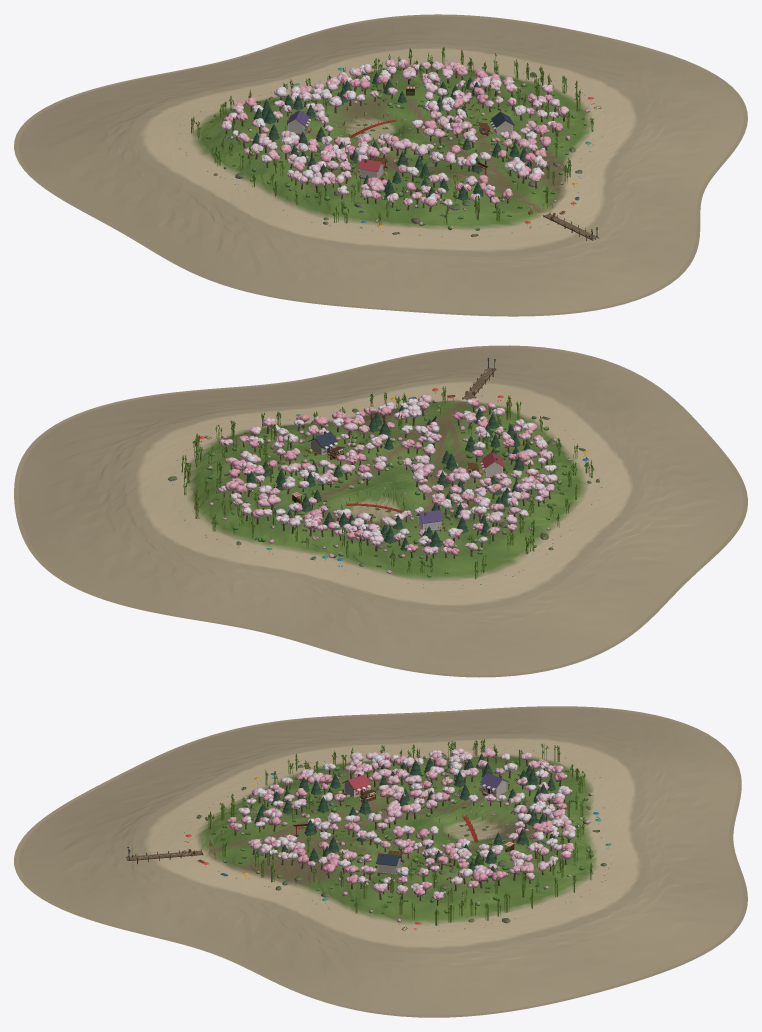
Rendered from petal.glb.
3 views of the same model, one above another, from view 1: azimuth 30°, elevation 25°; view 2: azimuth 150°, elevation 25°; view 3: azimuth 270°, elevation 25° (orthographic). The views are drawn at different scales.
Parts seen in each view (by area): view 1: petal_-3_-11, petal_-2_-11, petal_-3_-10, petal_-3_-12, petal_-4_-12, petal_-2_-12, petal_-4_-11, petal_-2_-10, petal_-1_-12, petal_-1_-11, petal_-3_-13, petal_-2_-13 (+3 smaller); view 2: petal_-3_-12, petal_-2_-12, petal_-3_-11, petal_-4_-12, petal_-2_-11, petal_-3_-13, petal_-4_-11, petal_-2_-13, petal_-3_-10, petal_-1_-12, petal_-2_-10, petal_-4_-13 (+3 smaller); view 3: petal_-2_-11, petal_-2_-12, petal_-3_-12, petal_-3_-11, petal_-1_-12, petal_-2_-10, petal_-3_-10, petal_-2_-13, petal_-1_-11, petal_-4_-12, petal_-3_-13, petal_-4_-11 (+3 smaller).
Boxes of the visible parts, x1,y1,x2,y2 form: petal_-3_-11: [252, 128, 534, 271]; petal_-2_-11: [431, 89, 707, 217]; petal_-3_-10: [358, 217, 624, 316]; petal_-3_-12: [144, 67, 429, 186]; petal_-4_-12: [19, 114, 251, 234]; petal_-2_-12: [325, 35, 608, 137]; petal_-4_-11: [125, 175, 354, 299]; petal_-2_-10: [532, 194, 702, 303]; petal_-1_-12: [508, 26, 731, 100]; petal_-1_-11: [610, 87, 747, 189]; petal_-3_-13: [93, 45, 331, 113]; petal_-2_-13: [269, 14, 507, 68]; petal_-3_-12: [264, 466, 557, 611]; petal_-2_-12: [79, 433, 374, 563]; petal_-3_-11: [372, 395, 667, 528]; petal_-4_-12: [449, 528, 689, 660]; petal_-2_-11: [184, 379, 482, 476]; petal_-3_-13: [204, 562, 452, 668]; petal_-4_-11: [558, 459, 747, 579]; petal_-2_-13: [40, 525, 263, 622]; petal_-3_-10: [478, 352, 711, 456]; petal_-1_-12: [14, 425, 183, 529]; petal_-2_-10: [303, 345, 576, 403]; petal_-4_-13: [394, 611, 588, 677]; petal_-2_-11: [201, 824, 418, 957]; petal_-2_-12: [415, 826, 634, 947]; petal_-3_-12: [415, 741, 631, 849]; petal_-3_-11: [198, 744, 419, 847]; petal_-1_-12: [414, 936, 636, 1017]; petal_-2_-10: [14, 838, 210, 950]; petal_-3_-10: [14, 766, 210, 865]; petal_-2_-13: [621, 847, 747, 954]; petal_-1_-11: [217, 936, 419, 1017]; petal_-4_-12: [413, 706, 636, 761]; petal_-3_-13: [626, 758, 741, 867]; petal_-4_-11: [198, 712, 419, 766].
Size of the model in its own units: 279 by 18.69 by 277.
